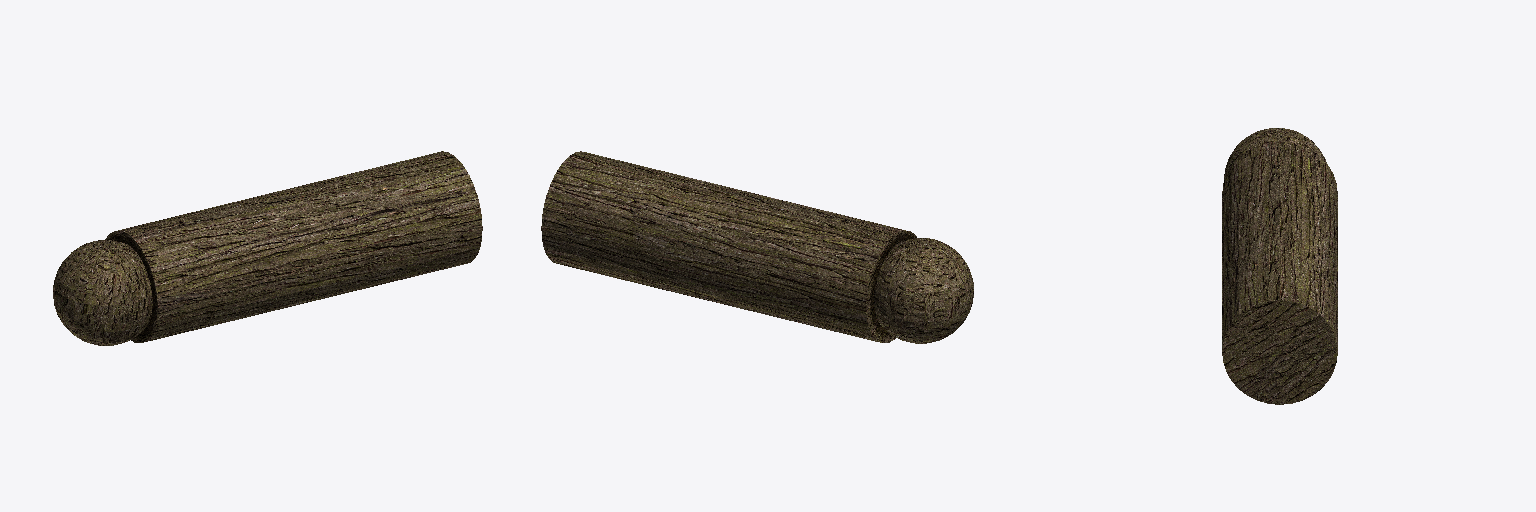
3 views of the same model, side by side, from view 1: azimuth 30°, elevation 25°; view 2: azimuth 150°, elevation 25°; view 3: azimuth 270°, elevation 25° (orthographic).
Parts seen in each view (by area): view 1: Limb1_Cylinder.001, Sphere; view 2: Limb1_Cylinder.001, Sphere; view 3: Limb1_Cylinder.001, Sphere.
Boxes of the visible parts, <box> form: Limb1_Cylinder.001: <box>105,151,482,342</box>; Sphere: <box>53,240,152,345</box>; Limb1_Cylinder.001: <box>541,151,916,342</box>; Sphere: <box>874,238,973,343</box>; Limb1_Cylinder.001: <box>1222,142,1337,404</box>; Sphere: <box>1224,128,1326,179</box>.
Size of the model in its own units: 0.7804 by 0.1977 by 0.1977.
2 materials, 2 textured.